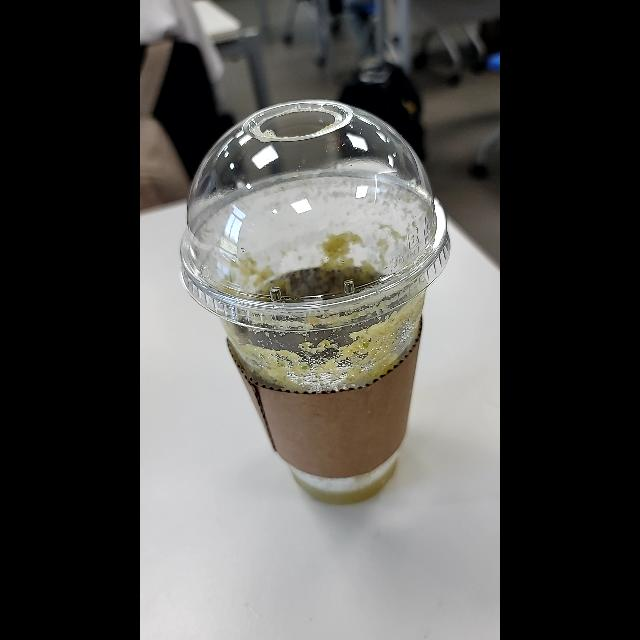plastic_cup_lid: (178, 104, 460, 506), (174, 98, 452, 336)
